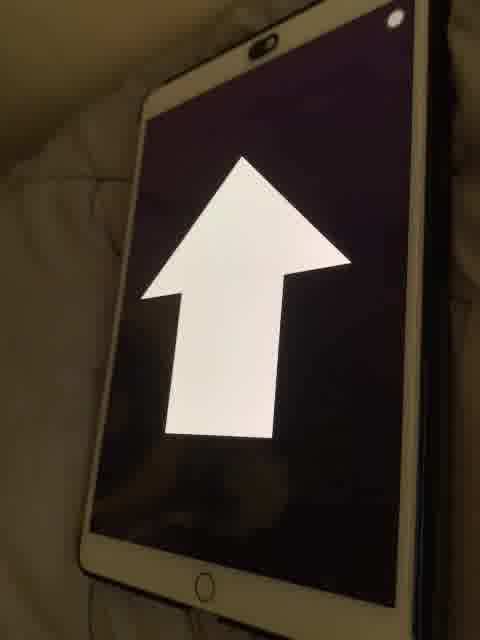up: (141, 154, 353, 447)
